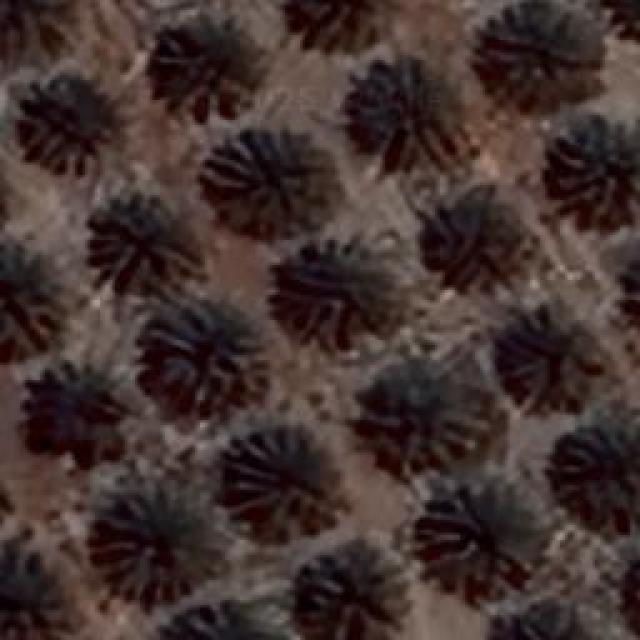PalmTree: (38, 98, 75, 582), (358, 362, 508, 470), (90, 485, 220, 600), (210, 127, 340, 240), (412, 472, 546, 580), (345, 52, 460, 170), (230, 428, 342, 538), (152, 300, 260, 400), (284, 241, 398, 334), (500, 302, 600, 408), (152, 17, 260, 115), (302, 544, 408, 638), (552, 110, 638, 225), (477, 0, 584, 92), (30, 370, 128, 470), (90, 200, 198, 288), (428, 191, 526, 281), (560, 410, 638, 522), (0, 238, 65, 358), (28, 78, 118, 162), (295, 0, 385, 55), (168, 603, 284, 640), (490, 611, 602, 640), (614, 245, 640, 338), (35, 29, 69, 98), (601, 0, 640, 44), (622, 244, 640, 336), (628, 245, 640, 335), (630, 538, 640, 636), (0, 458, 11, 534)
